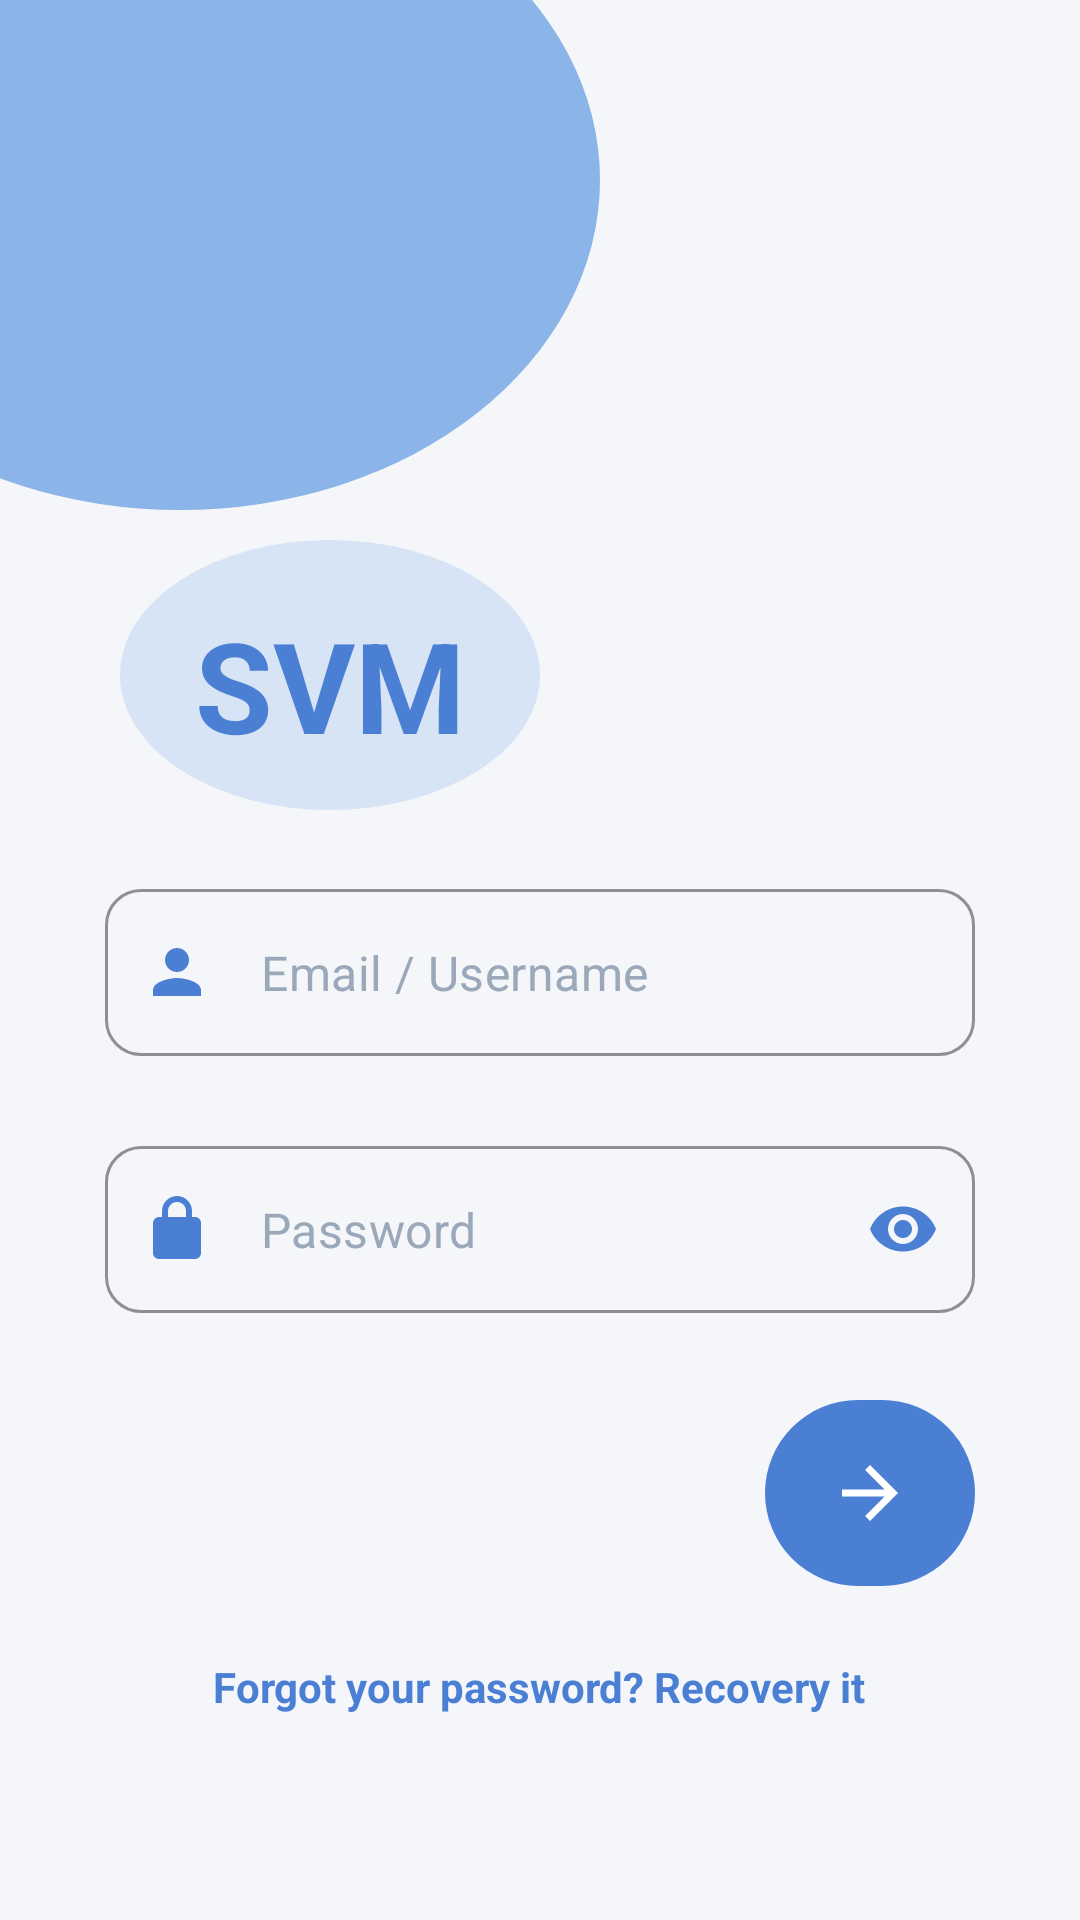

Locate icon controls on the screen. Image size 1080*1920, boxes as [left=x1, top=y1, right=x2, bottom=y2].
arrow forward: [left=765, top=1400, right=975, bottom=1586]
